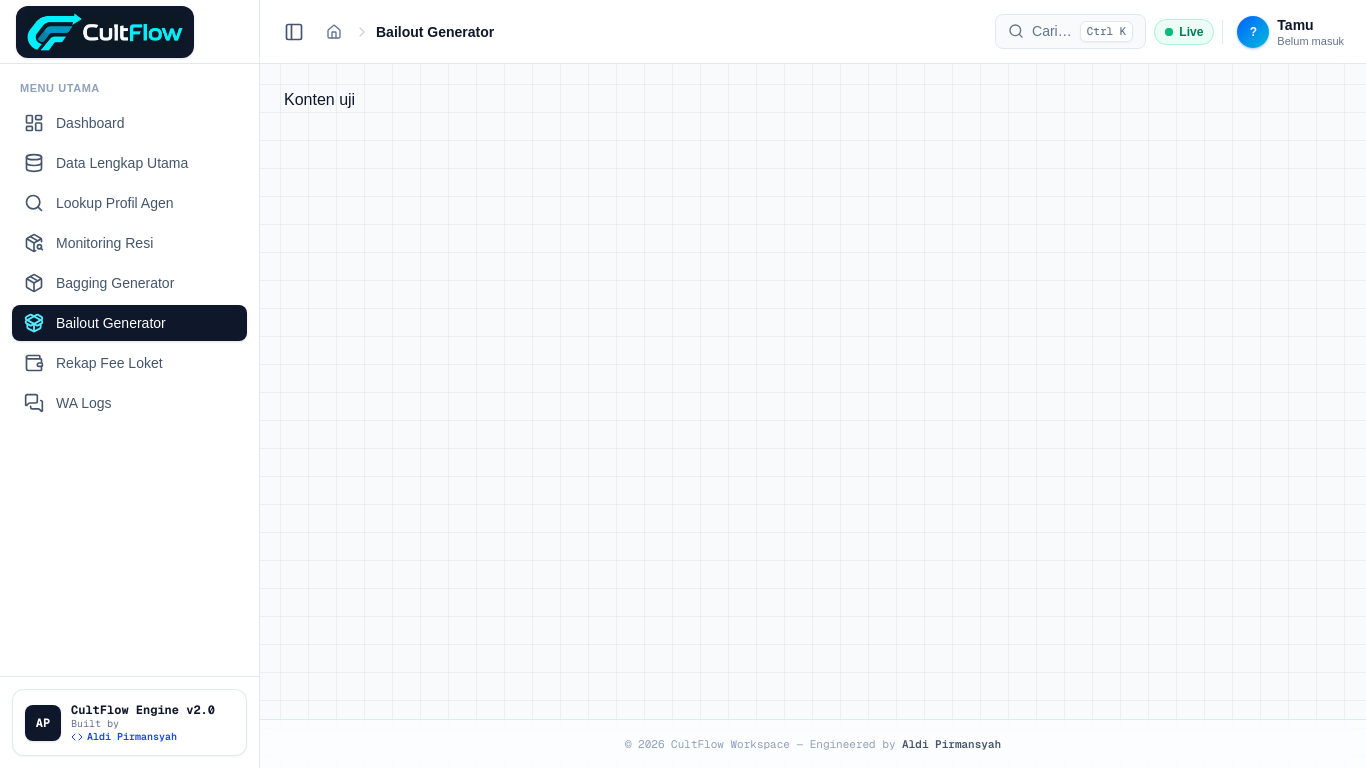
Scenario: LayoutShell › toggle collapse mengubah label tombol
Step 1. Click the button named "ciutkan sidebar" → click(294, 32), box [276,14,312,50]
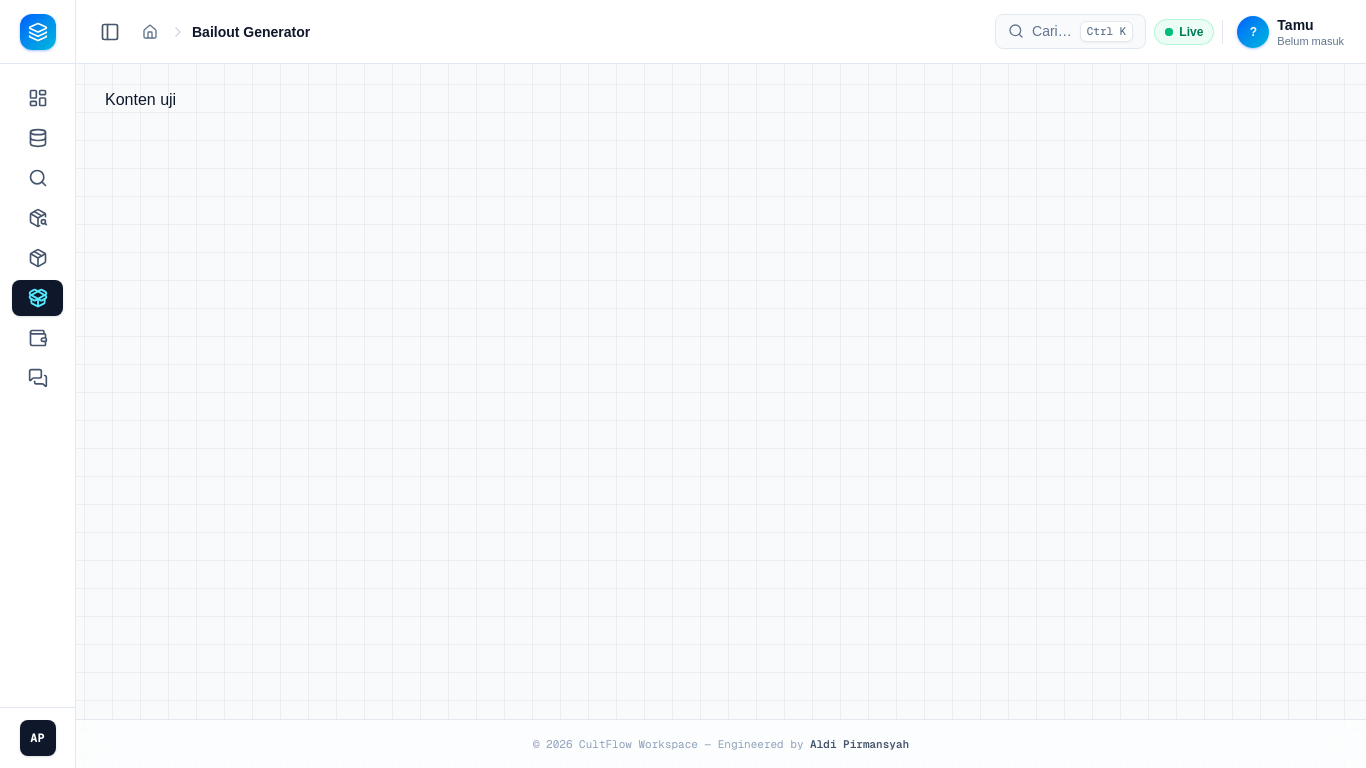
Now the button named "bentangkan sidebar" is shown, box [92,14,128,50]
